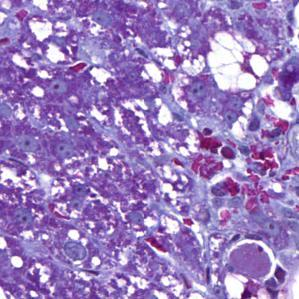ballooning: (204, 28, 272, 96)
